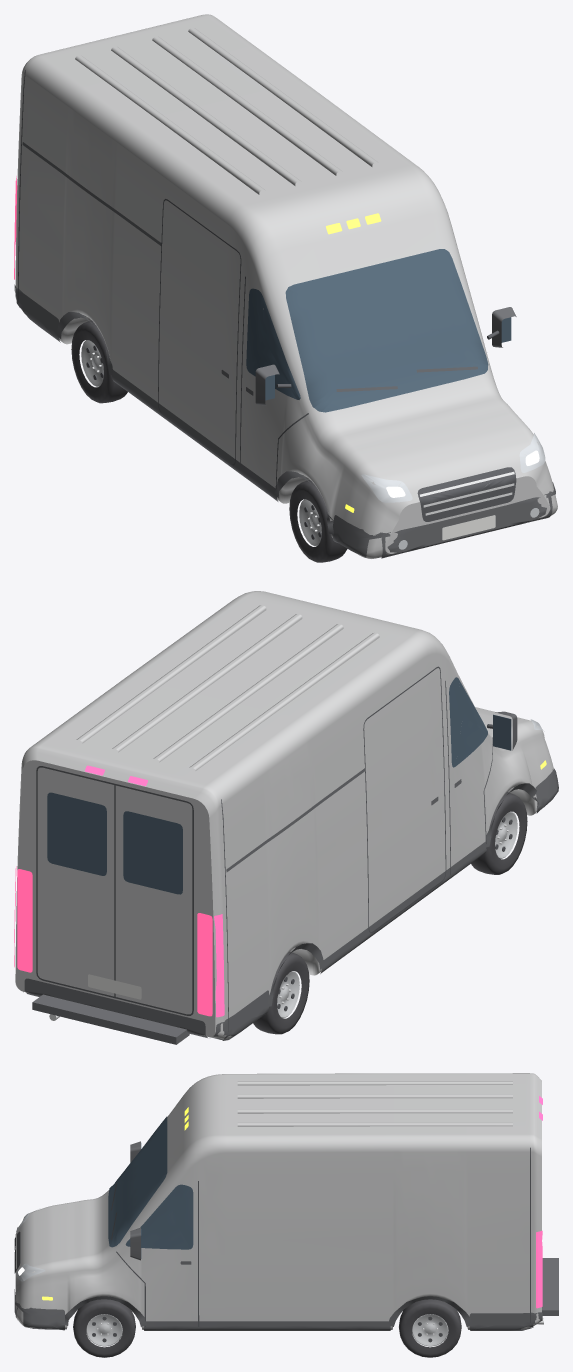
Rendered from van-delivery.glb.
3 renders of one model, top to bottom at view 1: azimuth 30°, elevation 25°; view 2: azimuth 150°, elevation 25°; view 3: azimuth 270°, elevation 25°, orthographic. The views are drawn at different scales.
Visible parts, largest first — view 1: van-delivery; view 2: van-delivery; view 3: van-delivery.
Boxes of the visible parts, <box> form: van-delivery: <box>14,14,557,562</box>; van-delivery: <box>14,591,558,1044</box>; van-delivery: <box>14,1073,558,1357</box>.
Size of the model in its own units: 2.5 by 2.74 by 6.14.
